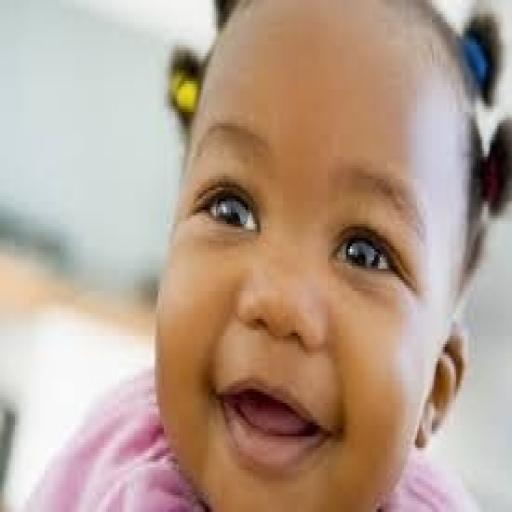laughing: (19, 0, 508, 509)
